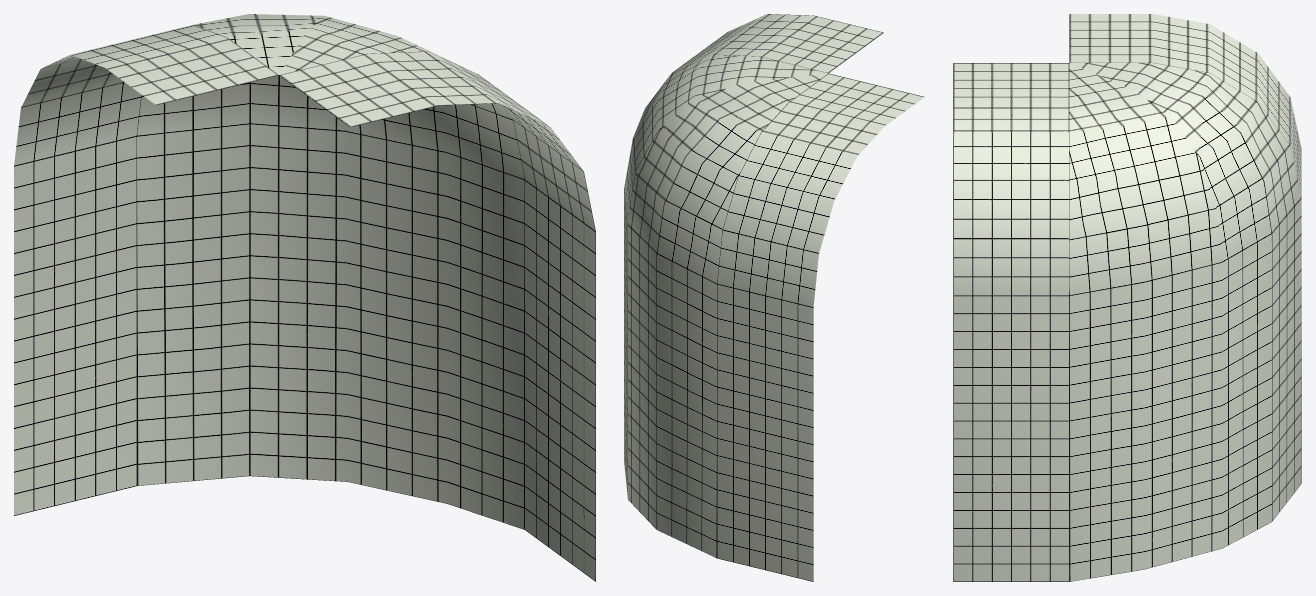
Rendered from Archway_inner.fbx.
3 views of the same model, side by side, from view 1: azimuth 30°, elevation 25°; view 2: azimuth 150°, elevation 25°; view 3: azimuth 270°, elevation 25° (orthographic). The views are drawn at different scales.
Visible parts, largest first — view 1: Archway_inner; view 2: Archway_inner; view 3: Archway_inner.
Part boxes in pixels (x1=…): Archway_inner: x1=14, y1=14, x2=595, y2=581; Archway_inner: x1=624, y1=14, x2=924, y2=581; Archway_inner: x1=953, y1=14, x2=1301, y2=581.
Bounding box in the file's own units: 300 × 400 × 300.
